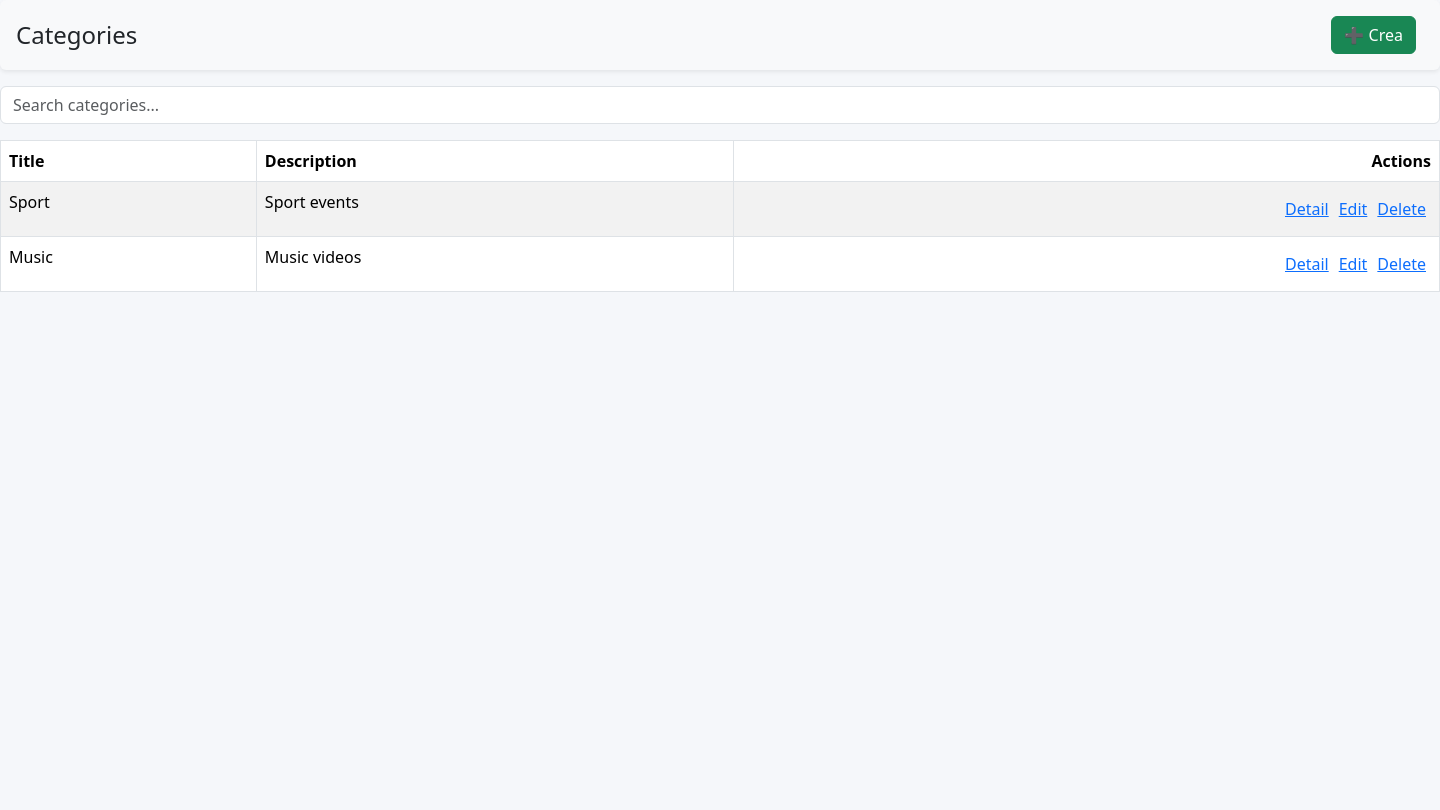
Test case: Categories Index › opens the delete confirmation modal when Delete is clicked
This screenshot has width=1440, height=810.
Click the button "Delete" in the row of "Sport events".
click(1402, 209)  # box [1372, 190, 1431, 228]
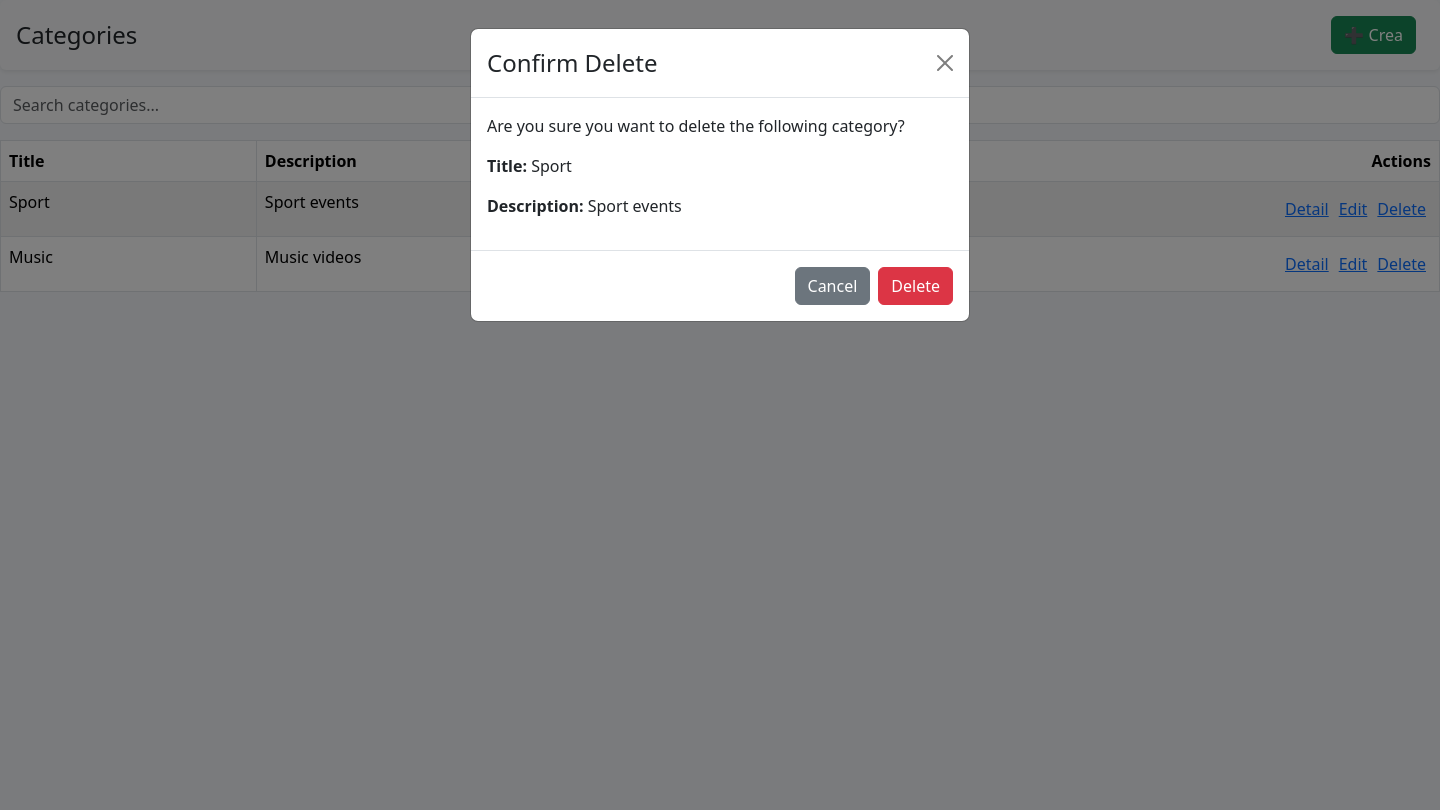
Expected: the text "Sport" is shown, [0, 182, 256, 236]
Now the text "Confirm Delete" is shown, box [487, 45, 658, 81]
